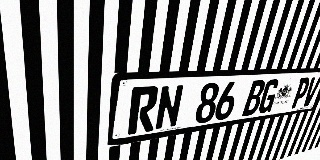6: (213, 81, 240, 121)
8: (194, 82, 222, 124)
B: (242, 80, 267, 116)
G: (257, 79, 281, 114)
N: (154, 84, 184, 131)
P: (290, 77, 312, 109)
R: (128, 86, 159, 135)
V: (301, 77, 320, 107)
